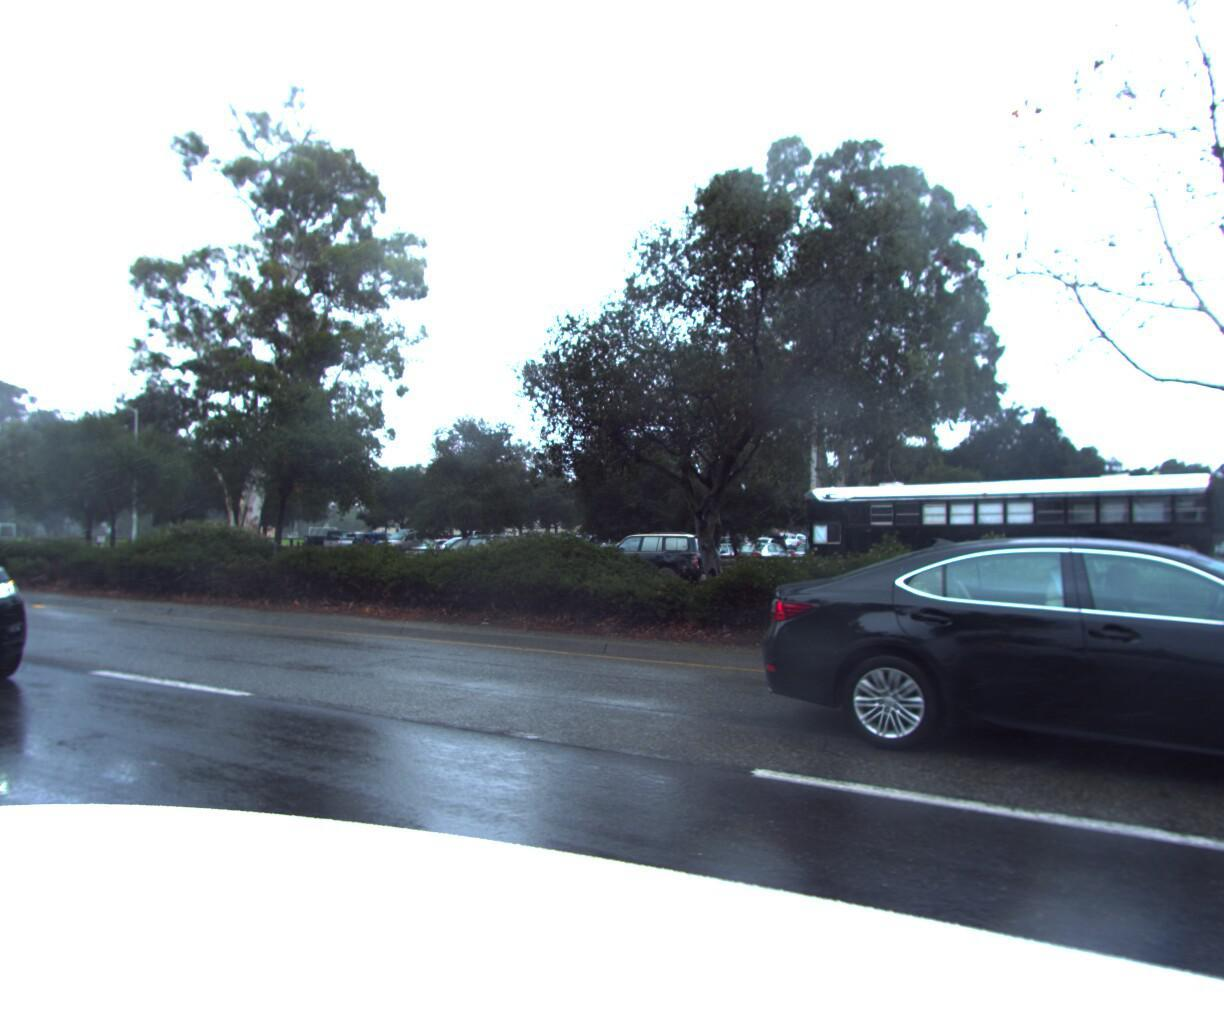bus: (781, 464, 1223, 617)
car: (719, 513, 1224, 841), (0, 491, 56, 741), (564, 529, 719, 594), (403, 532, 541, 589), (546, 534, 628, 565), (723, 537, 798, 570)
